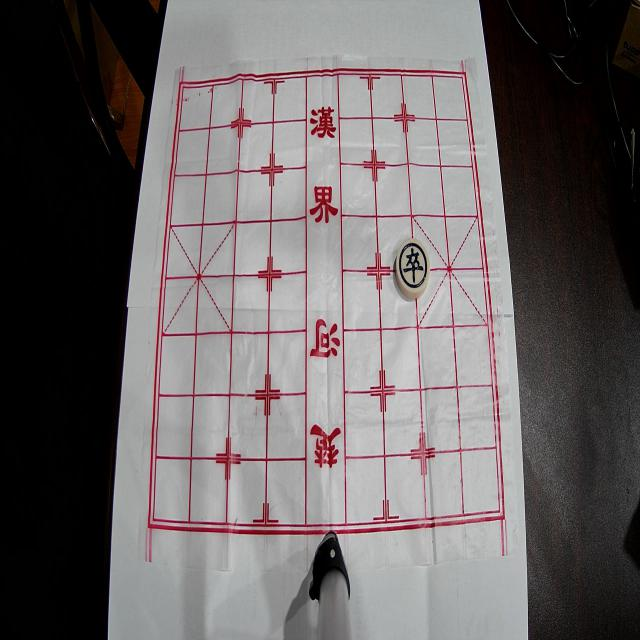black-soldier: (396, 238, 430, 299)
